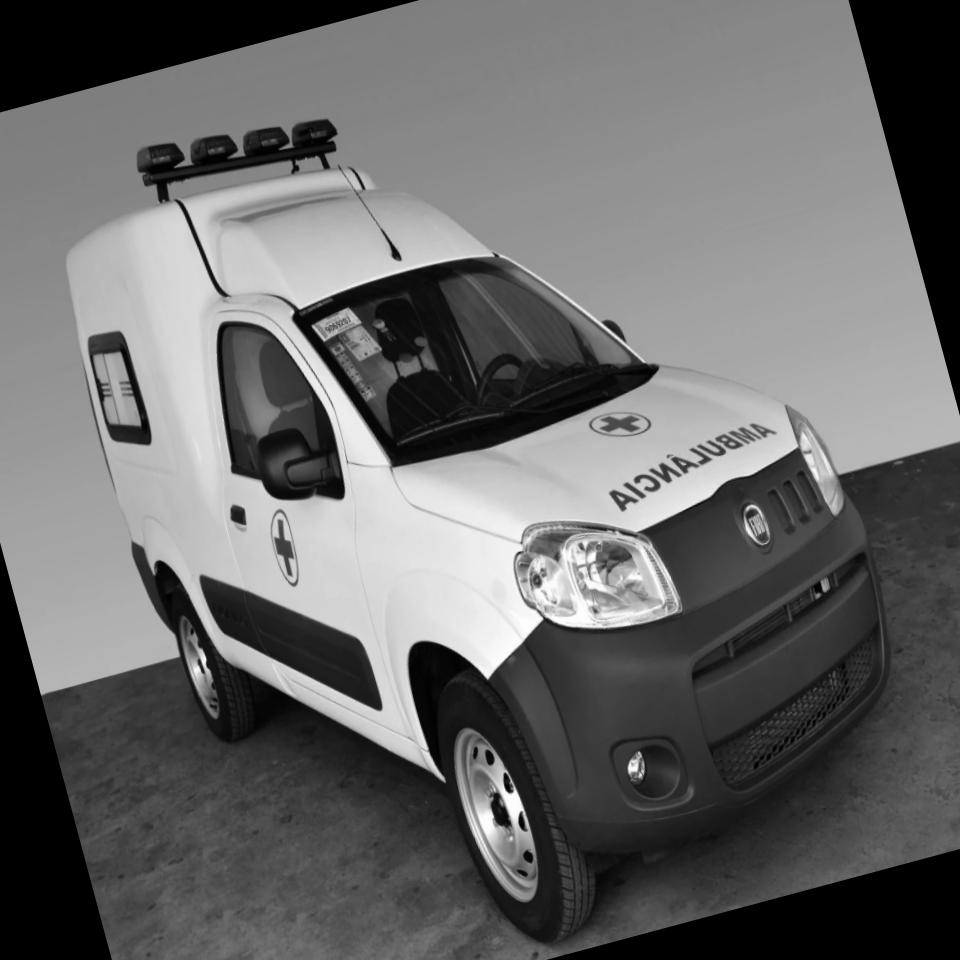bombeiro: (29, 0, 948, 960)
